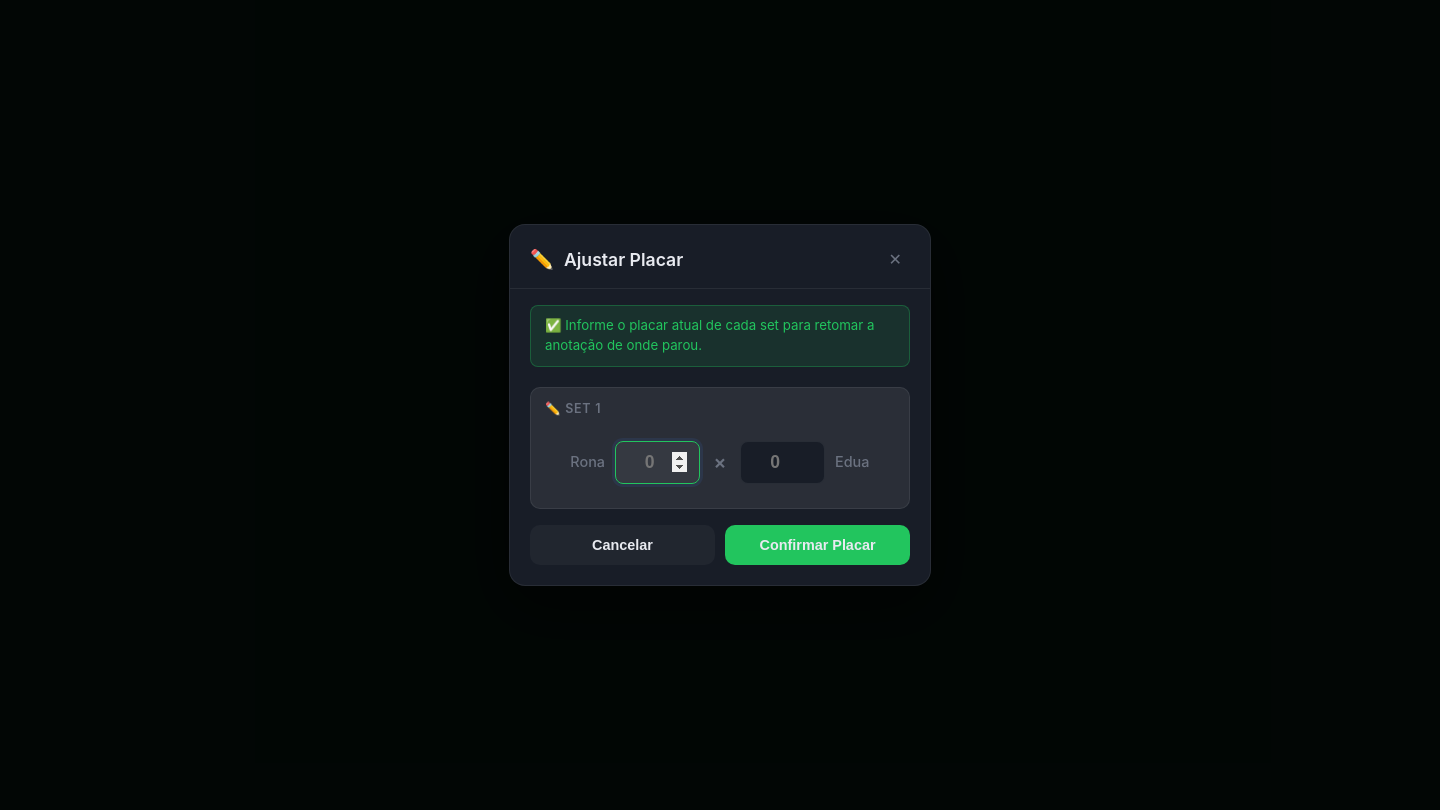
EditScoreModal - Dois Inputs Separados › should allow moving to next set
Type "6" into the 1st number field with placeholder "0". click: (657, 462)
box: [615,441,700,484]
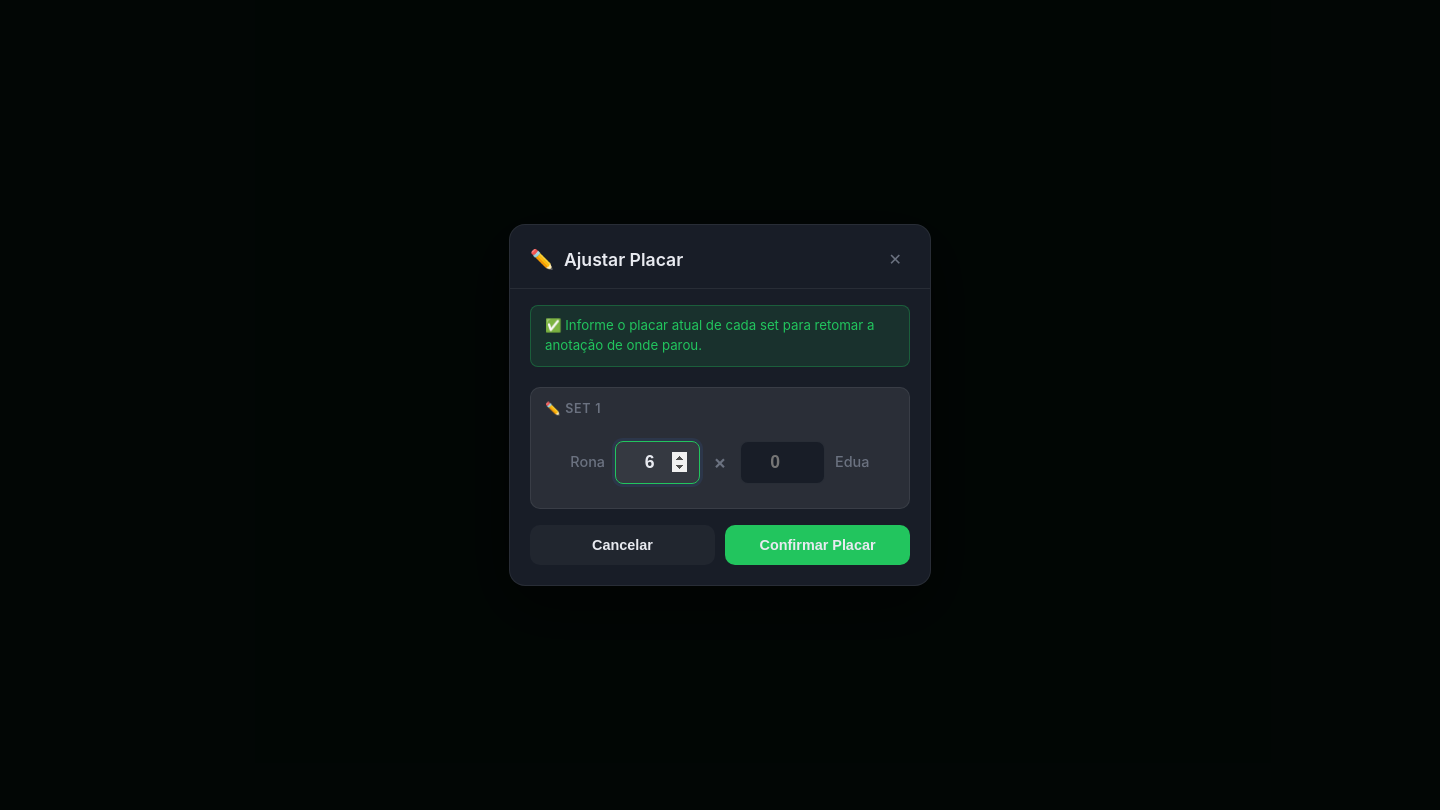
Type "4" into the number field with placeholder "0". click: (783, 462)
box: [740,441,825,484]
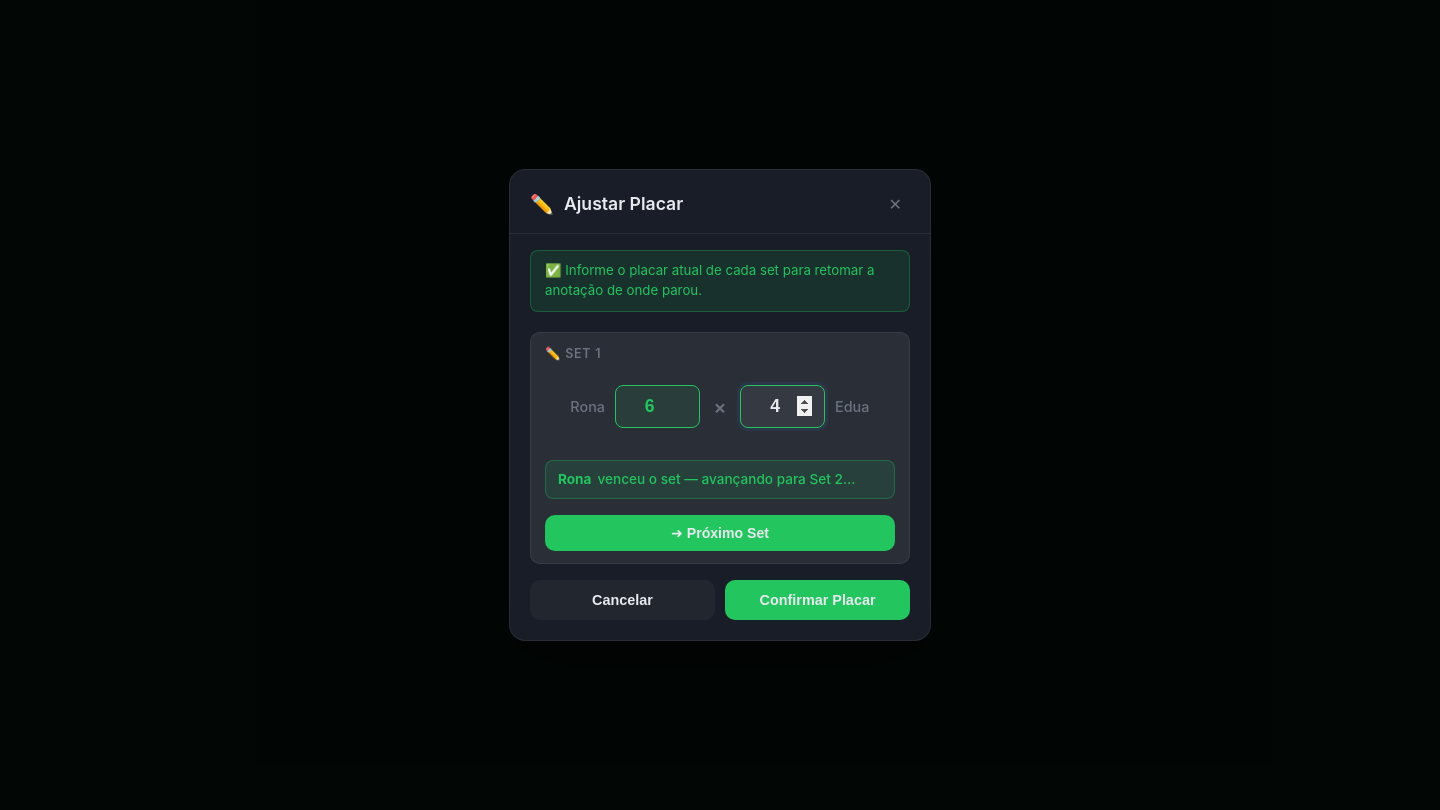
Click the button "➜ Próximo Set". click: (720, 533)
box: [545,515,895,551]
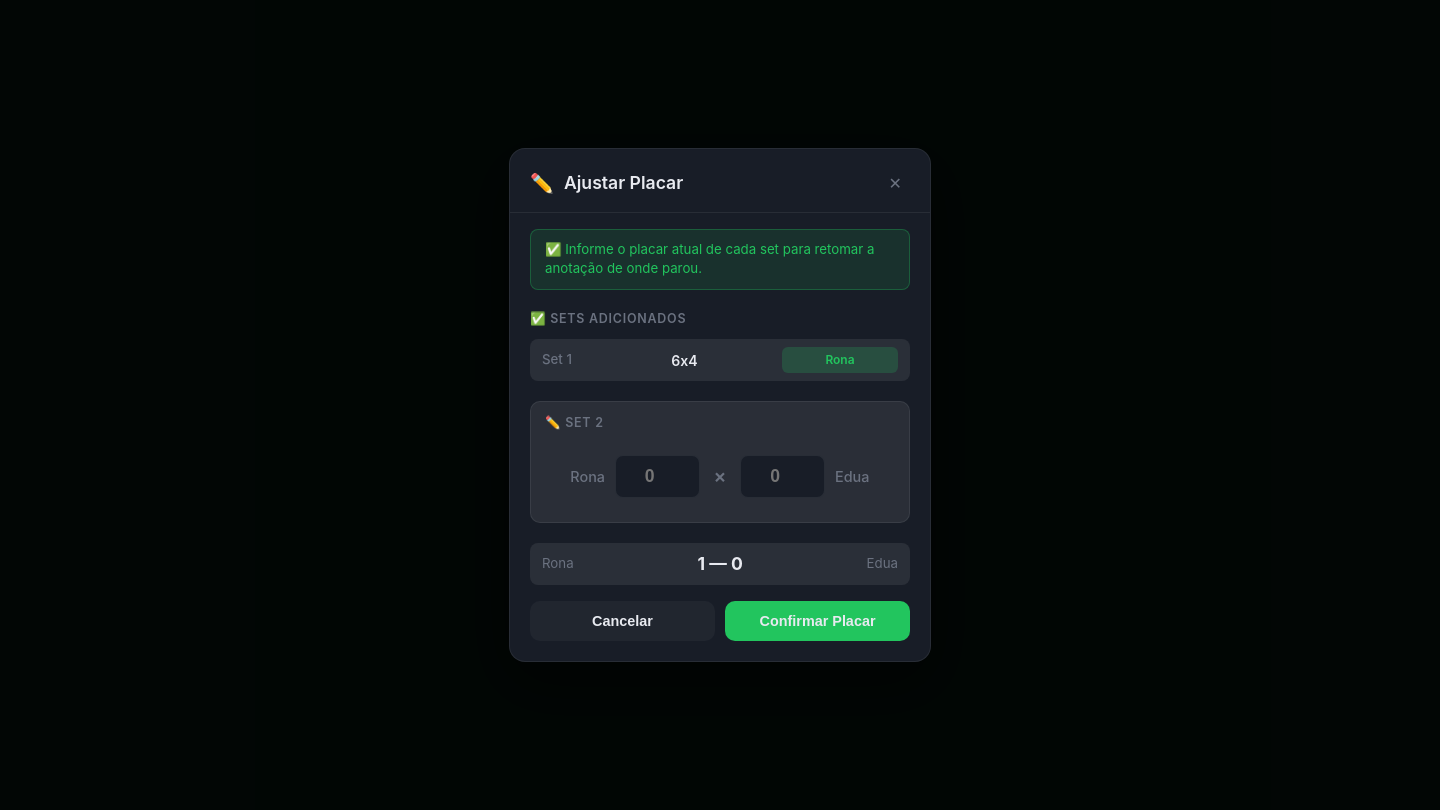
Result: the 1st number field with placeholder "0" is not empty at [615,455,700,498]
Result: the 2nd number field with placeholder "0" is not empty at [740,455,825,498]
Result: the text "✏️ Set 2" is shown at [545,415,604,430]
